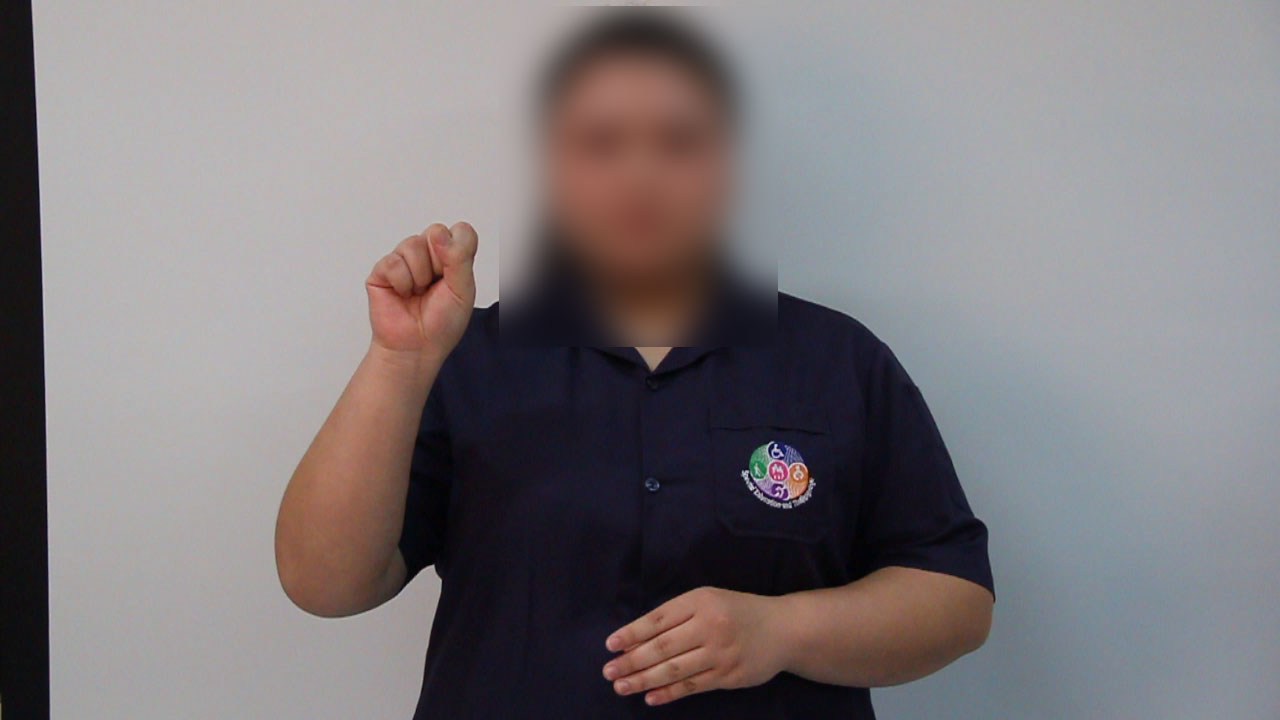sor: (349, 207, 496, 374)
